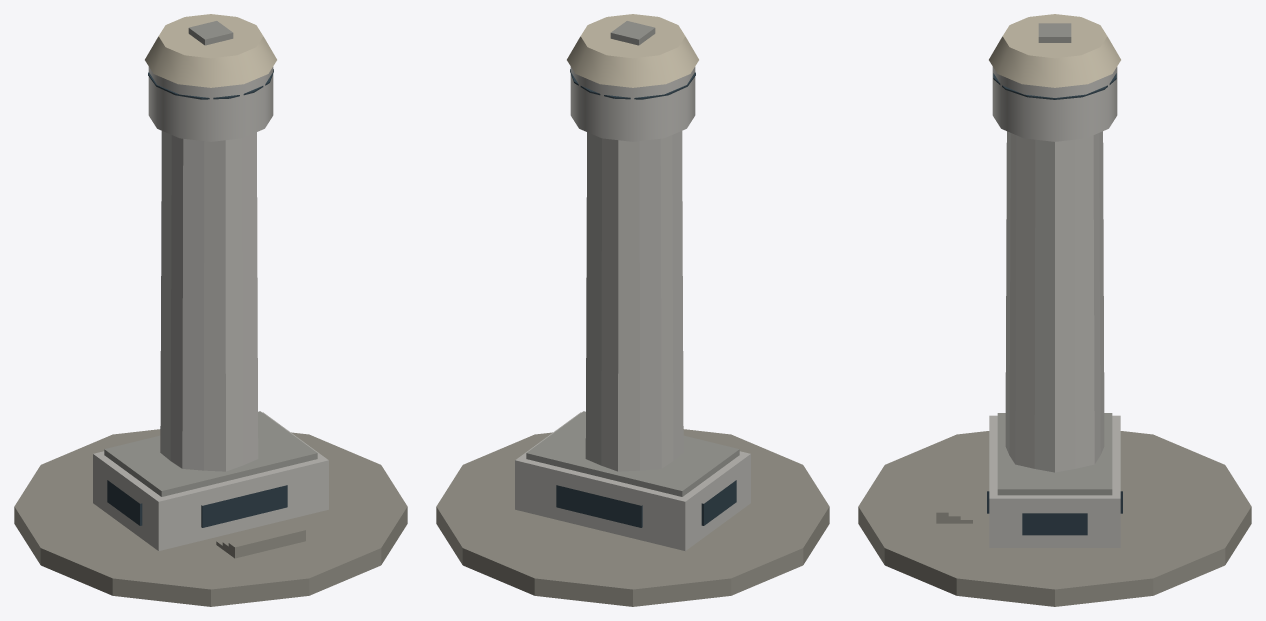
The model's file is mobile.glb.
3 views of the same model, side by side, from view 1: azimuth 30°, elevation 25°; view 2: azimuth 150°, elevation 25°; view 3: azimuth 270°, elevation 25° (orthographic).
Visible parts, largest first — view 1: lm.coit-tower; view 2: lm.coit-tower; view 3: lm.coit-tower.
Part boxes in pixels (x1,y1,x2,y2): lm.coit-tower: (14, 14, 407, 606); lm.coit-tower: (436, 14, 829, 606); lm.coit-tower: (858, 14, 1251, 606).
Bounding box in the file's own units: 48 × 66.5 × 48.
